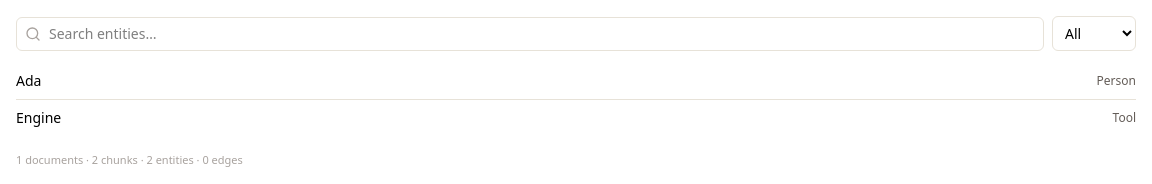
Test case: BrowseView › (b) label filter narrows
Expected: the text "Ada" is shown, [16,71,41,91]
Select "Tool" in the dropdown at (1094,34), box [1052,16,1136,51]
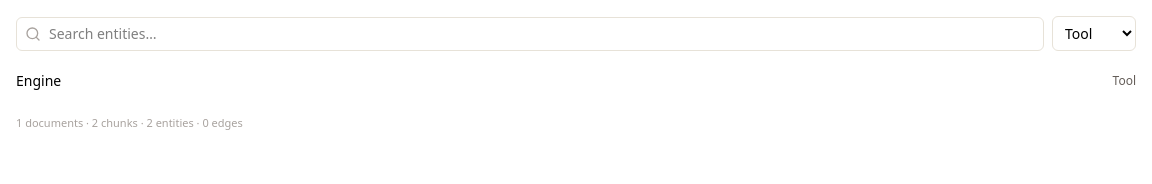
Expected: the text "Engine" is shown, [16,71,61,91]
Expected: the button "Ada" is gone
